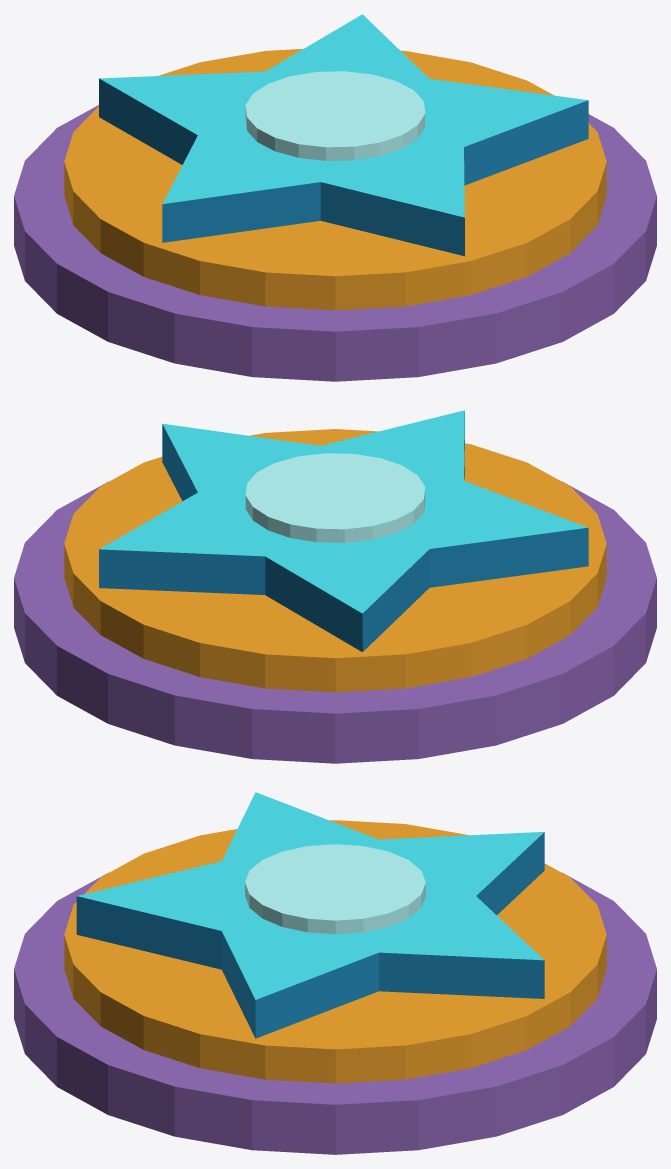
The model's file is star_spring.obj.
The picture shows the model from 3 angles, top to bottom: view 1: azimuth 30°, elevation 25°; view 2: azimuth 150°, elevation 25°; view 3: azimuth 270°, elevation 25°; orthographic projection.
Visible parts, largest first — view 1: star_spring; view 2: star_spring; view 3: star_spring.
Boxes of the visible parts, x1,y1,x2,y2 form: star_spring: (14, 14, 656, 381); star_spring: (14, 410, 656, 763); star_spring: (14, 792, 656, 1154).
Bounding box in the file's own units: 2.56 × 0.6 × 2.56.
